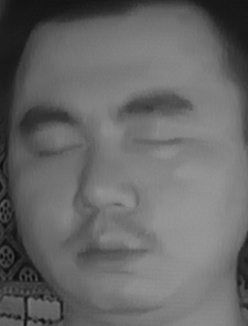blink: (134, 120, 188, 164), (32, 128, 84, 172)
mouth: (66, 220, 153, 276)
